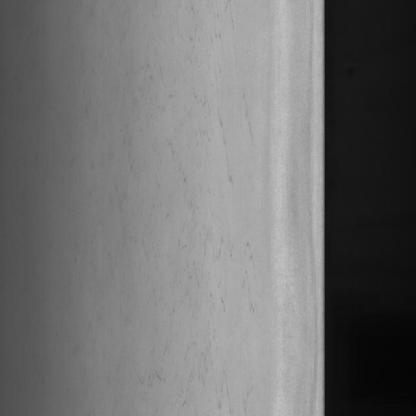silk_spot: (134, 19, 266, 380)
